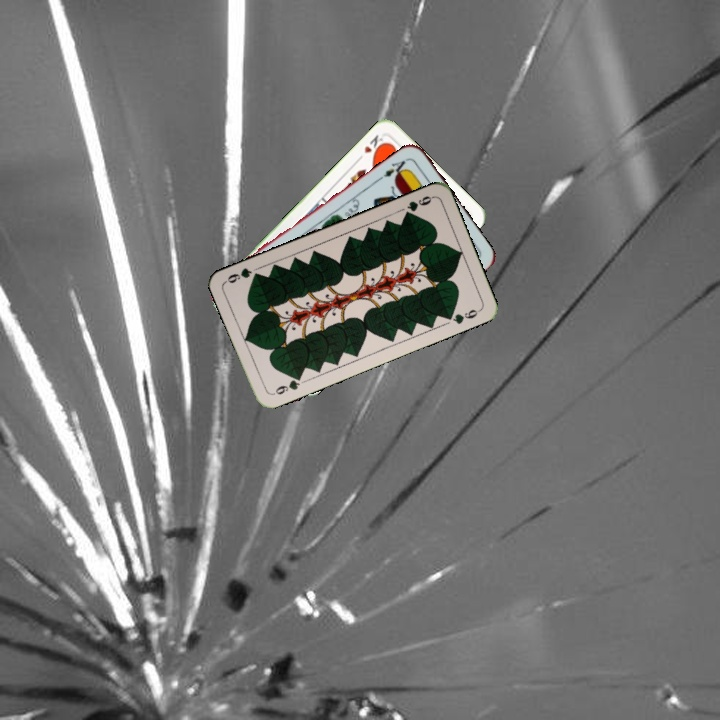EA: (375, 154, 411, 182)
G9: (400, 192, 436, 220), (269, 371, 305, 398)
HK: (360, 130, 388, 158)
